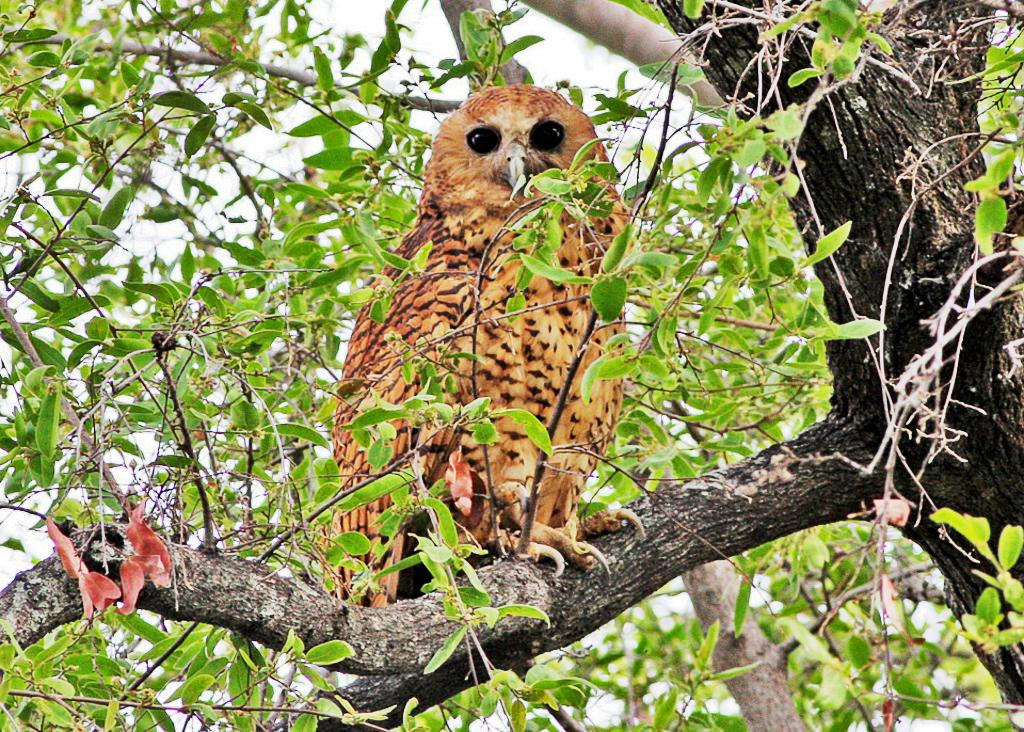Owl: (324, 81, 650, 615)
